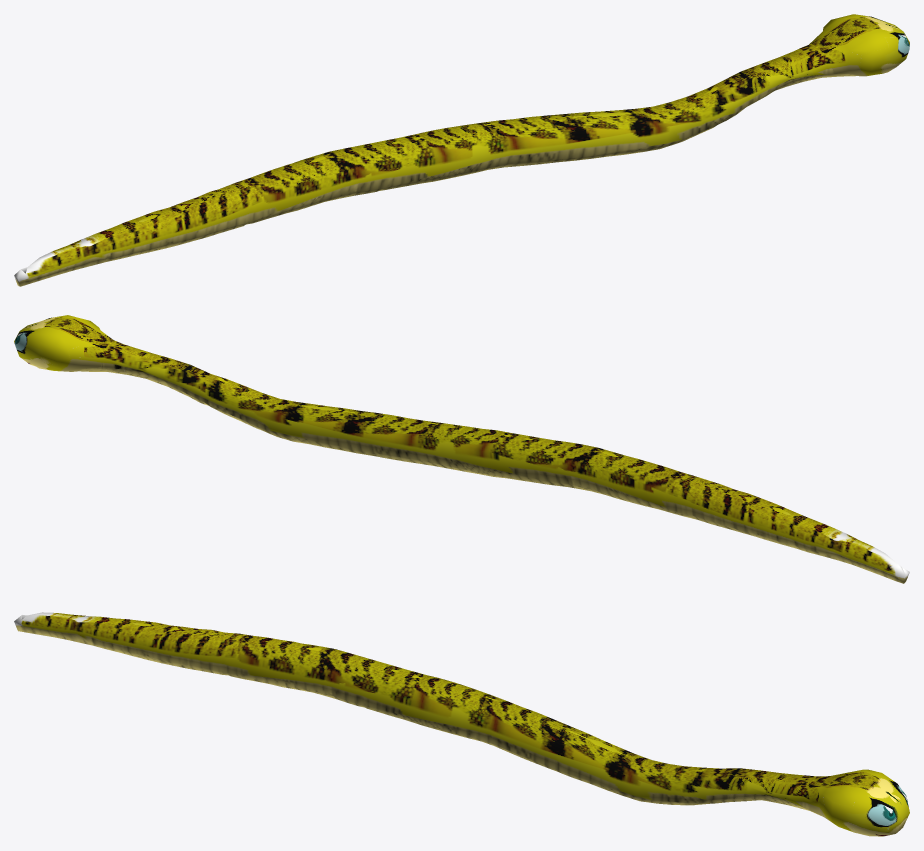
The model's file is snake_aug_7.obj.
3 renders of one model, top to bottom at view 1: azimuth 30°, elevation 25°; view 2: azimuth 150°, elevation 25°; view 3: azimuth 330°, elevation 25°, orthographic.
Bounding box in the file's own units: 95.93 × 6.87 × 7.37.
Materials: 1 (1 with a texture image).
